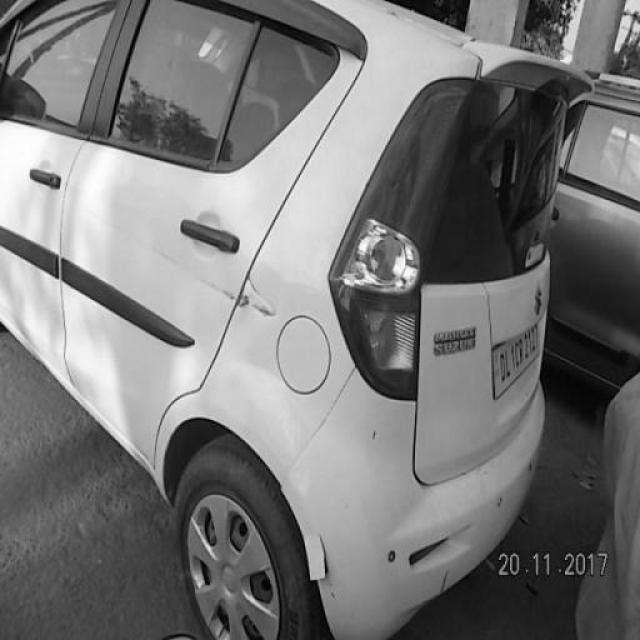scratch: (83, 206, 285, 326), (435, 566, 457, 600)
tear: (310, 531, 336, 597)
